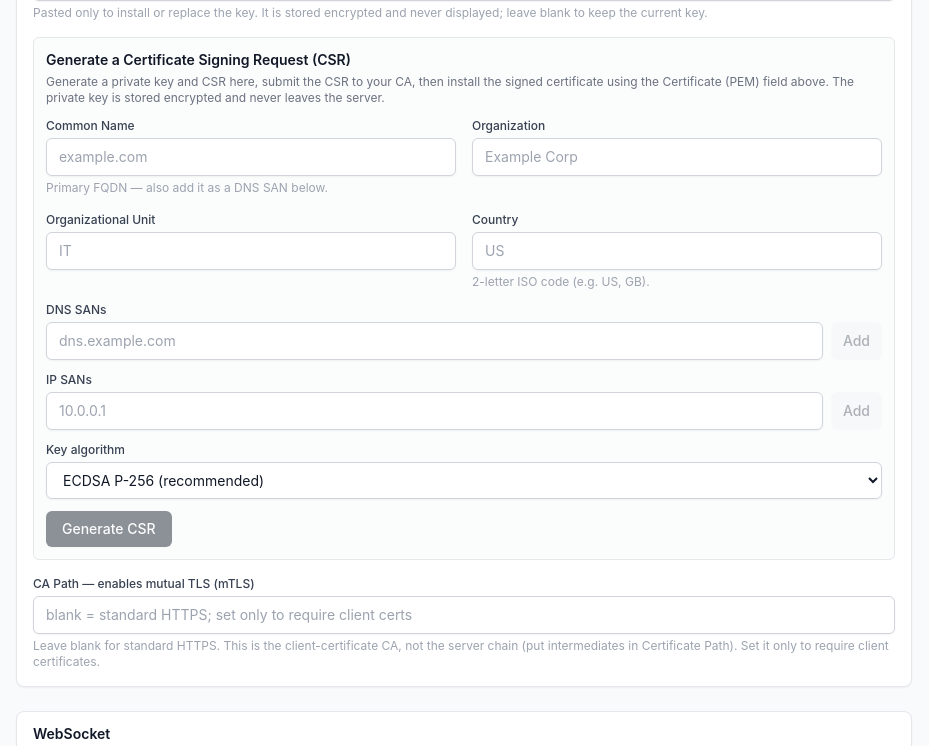
Test: AdminServerPage › adds and removes DNS SANs
(page scrolled)
In the field with placeholder "dns.example.com": (434,341) [46,322,823,360], type "www.example.com"
Then press Enter
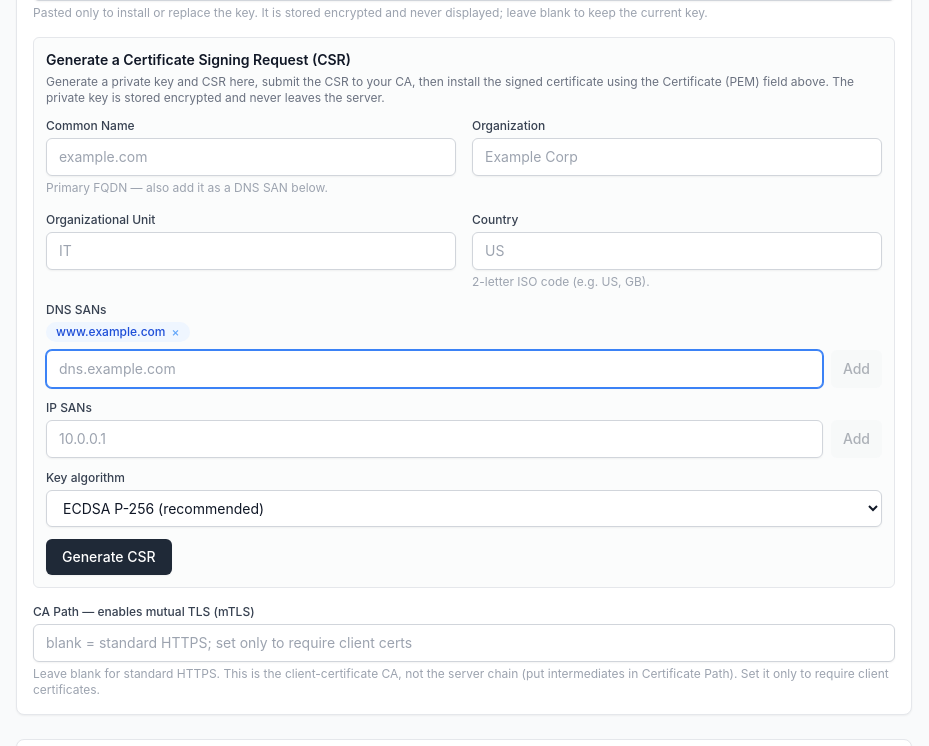
expect the text "www.example.com" is shown: met, box [56,324,166,339]
Click the button named "remove www.example.com": (176,332) [172,324,180,340]
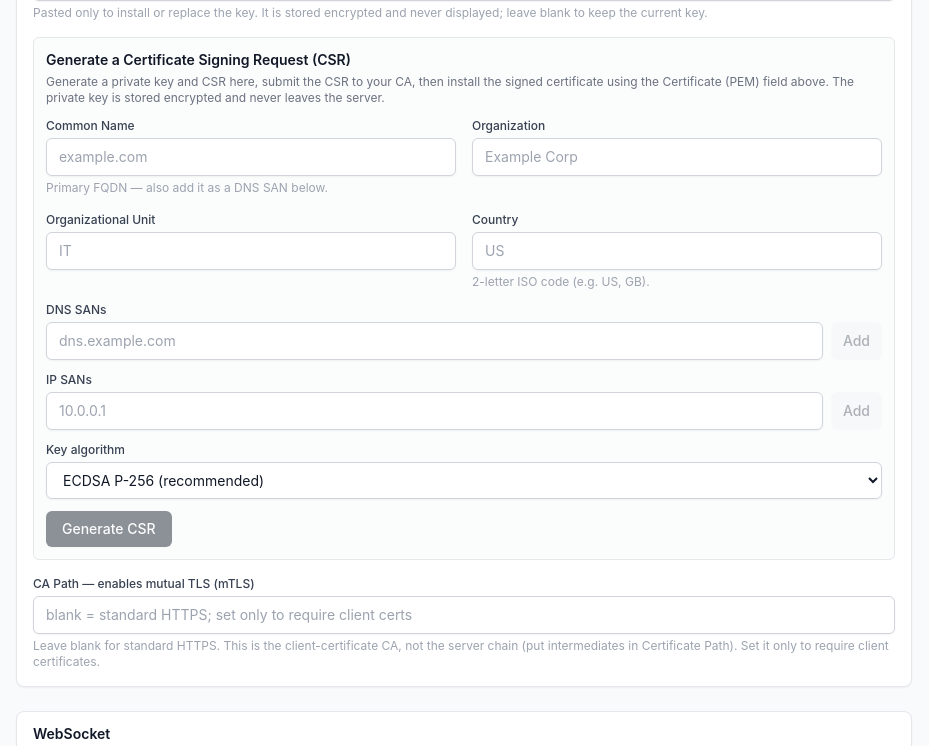
expect the text "www.example.com" is gone: met
